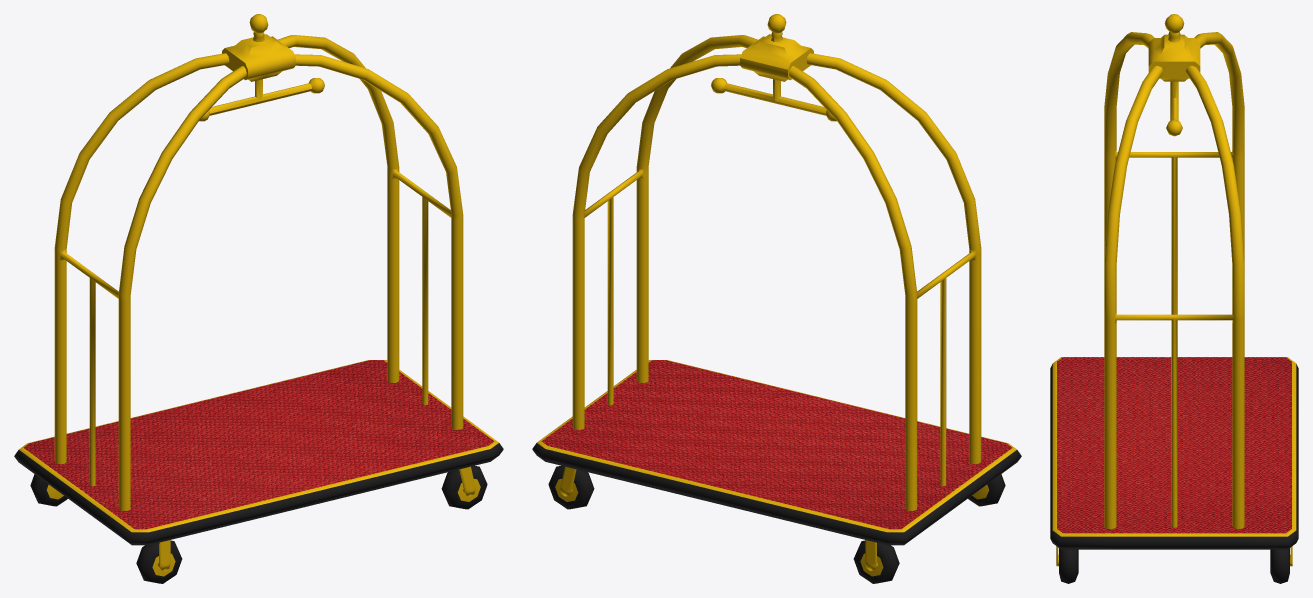
Rendered from luggage carrier.fbx.
3 views of the same model, side by side, from view 1: azimuth 30°, elevation 25°; view 2: azimuth 150°, elevation 25°; view 3: azimuth 270°, elevation 25° (orthographic).
Parts seen in each view (by area): view 1: Cube, Circle.001, Cube.001, Front.L, Back.L, Front.R; view 2: Cube, Circle.001, Cube.001, Front.R, Back.R, Front.L; view 3: Cube, Circle.001, Cube.001, Back.L, Back.R.
Boxes of the visible parts, x1,y1,x2,y2 form: Cube: [14, 360, 503, 570]; Circle.001: [54, 35, 463, 510]; Cube.001: [199, 14, 324, 121]; Front.L: [136, 540, 182, 583]; Back.L: [441, 465, 487, 509]; Front.R: [30, 474, 67, 506]; Cube: [532, 360, 1021, 570]; Circle.001: [572, 35, 981, 510]; Cube.001: [711, 14, 836, 121]; Front.R: [853, 540, 899, 583]; Back.R: [548, 465, 594, 509]; Front.L: [968, 474, 1005, 506]; Cube: [1050, 357, 1298, 566]; Circle.001: [1104, 32, 1244, 529]; Cube.001: [1148, 14, 1200, 136]; Back.L: [1059, 548, 1078, 583]; Back.R: [1270, 548, 1289, 583].
Size of the model in its own units: 199 by 251 by 114.
